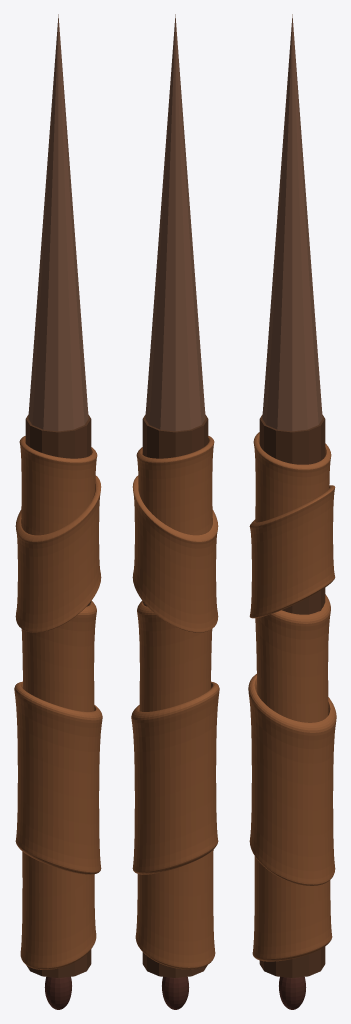
The model's file is Wand 326.glb.
3 renders of one model, left to right at view 1: azimuth 30°, elevation 25°; view 2: azimuth 150°, elevation 25°; view 3: azimuth 330°, elevation 25°, orthographic.
Visible parts, largest first — view 1: GeneratedWand; view 2: GeneratedWand; view 3: GeneratedWand.
Part boxes in pixels (x1,y1,x2,y2): GeneratedWand: (14,14,102,1009); GeneratedWand: (131,14,219,1009); GeneratedWand: (248,14,336,1009).
Size of the model in its own units: 0.0408 by 0.5078 by 0.0408.
